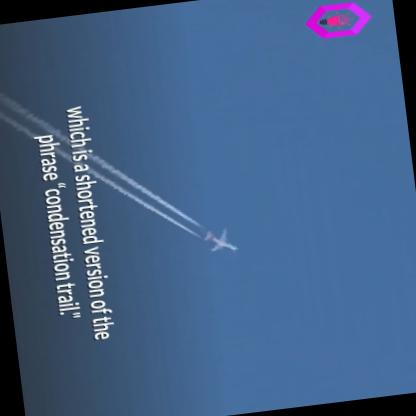plane: (199, 222, 241, 262)
